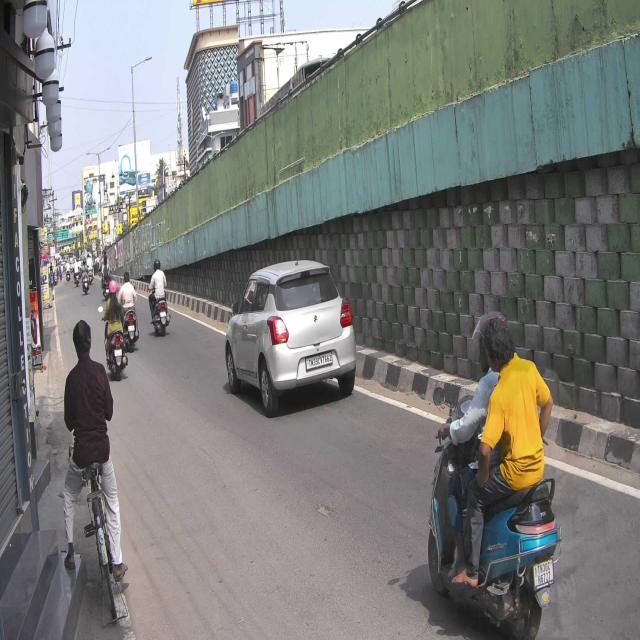double_rider: (426, 308, 560, 640)
